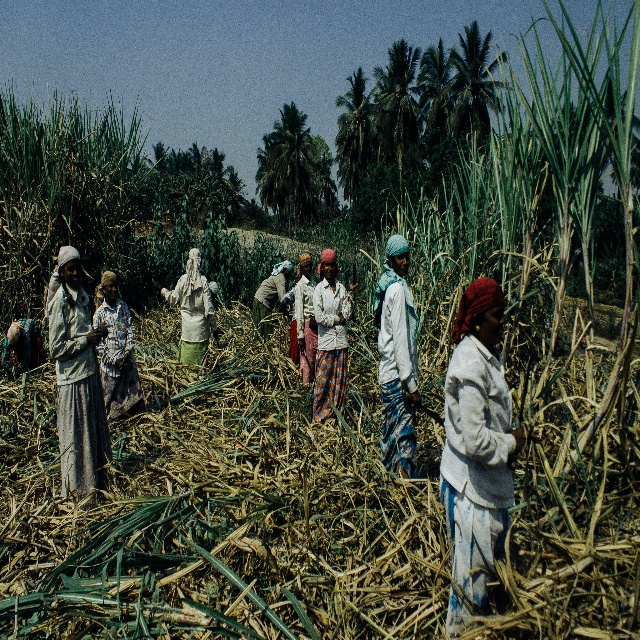Sin_guantes: (510, 424, 531, 452), (85, 327, 102, 345), (411, 388, 422, 410), (118, 353, 129, 371), (115, 355, 127, 371), (99, 323, 109, 340), (298, 337, 306, 353), (212, 329, 219, 341), (339, 313, 345, 322)
